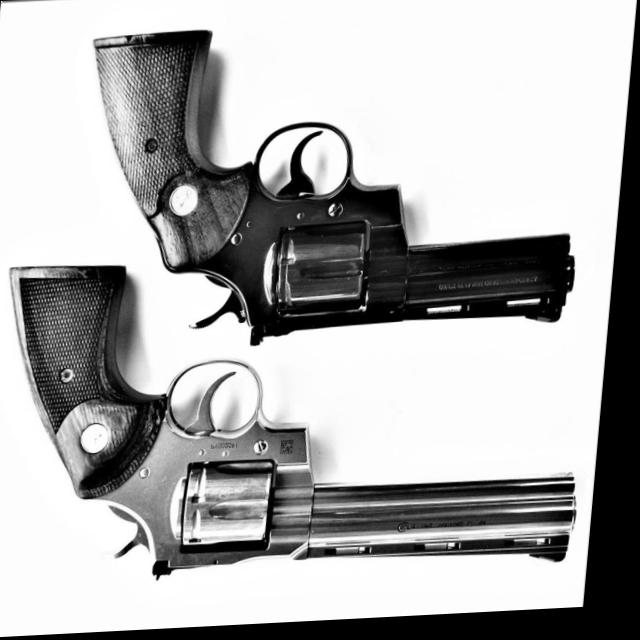handgun: (72, 7, 609, 359), (0, 348, 602, 596)
